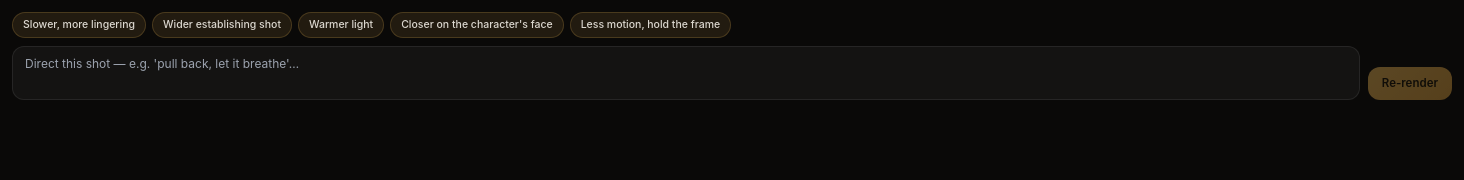
Test: RegionCommentBar › surfaces a learned-prior confirmation
Type "slower" into the text box with placeholder "Direct this shot — e.g. 'pull back, let it breathe'…" at [686, 73], box [12,46,1360,100]
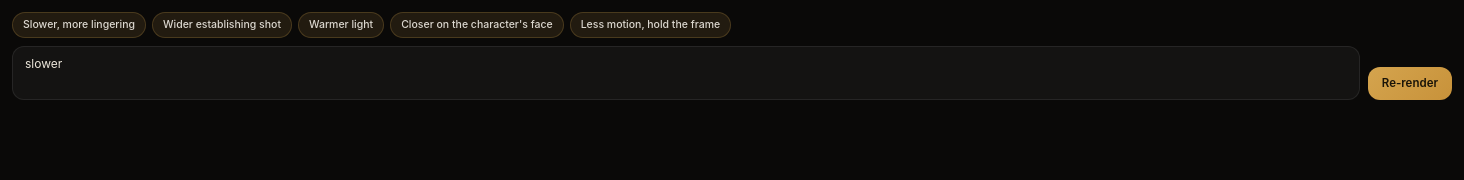
Click the button "Re-render" at [1410, 83], box [1368,66,1452,100]
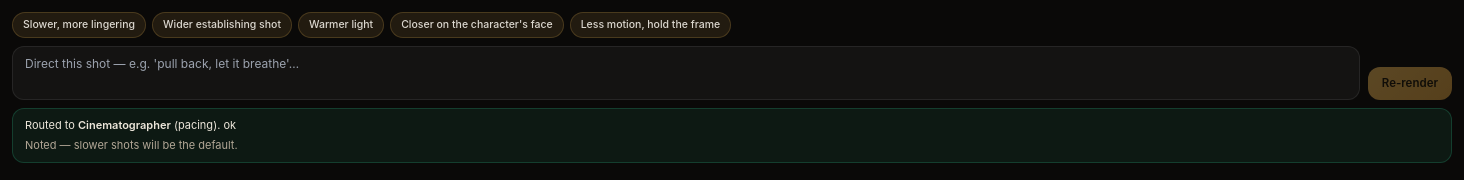
Now the text "Noted — slower shots will be the default." is shown, box [25,138,238,152]
